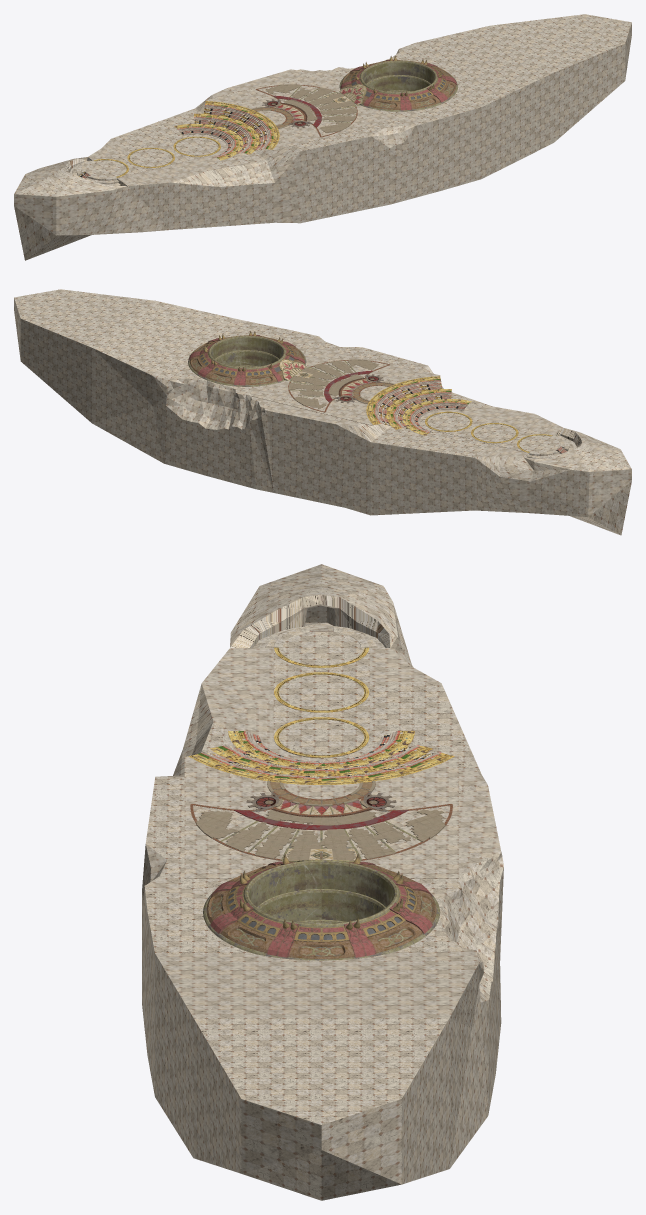
File: Map_FireMan_Boss.fbx
3 renders of one model, top to bottom at view 1: azimuth 30°, elevation 25°; view 2: azimuth 150°, elevation 25°; view 3: azimuth 270°, elevation 25°, orthographic. The views are drawn at different scales.
Parts seen in each view (by area): view 1: TO14_SM_GRN_Bld_RoofTop01.mo, TO14_SM_GRN_Bld_Brick42.mo; view 2: TO14_SM_GRN_Bld_RoofTop01.mo, TO14_SM_GRN_Bld_Brick42.mo; view 3: TO14_SM_GRN_Bld_RoofTop01.mo, TO14_SM_GRN_Bld_Brick42.mo.
Boxes of the visible parts, x1,y1,x2,y2 form: TO14_SM_GRN_Bld_RoofTop01.mo: (14, 14, 631, 260); TO14_SM_GRN_Bld_Brick42.mo: (252, 84, 357, 132); TO14_SM_GRN_Bld_RoofTop01.mo: (14, 289, 631, 535); TO14_SM_GRN_Bld_Brick42.mo: (288, 359, 394, 408); TO14_SM_GRN_Bld_RoofTop01.mo: (142, 564, 503, 1200); TO14_SM_GRN_Bld_Brick42.mo: (196, 780, 445, 860).
Bounding box in the file's own units: 23951 × 4412 × 6076.
